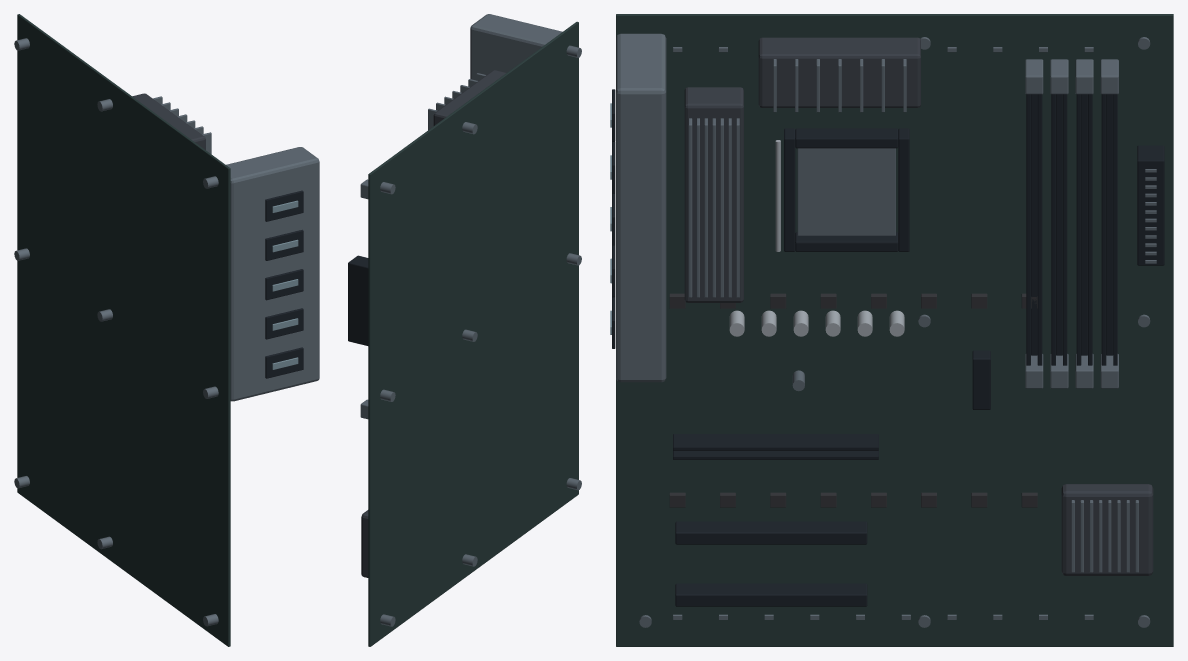
Rendered from motherboard.glb.
3 renders of one model, left to right at view 1: azimuth 30°, elevation 25°; view 2: azimuth 150°, elevation 25°; view 3: azimuth 270°, elevation 25°, orthographic. The views are drawn at different scales.
Parts seen in each view (by area): view 1: Motherboard_PCB_Deep_Slate, Motherboard_Metal_Dark_Steel, Motherboard_Plastic_Black, Motherboard_Accent_Slate, Motherboard_Paint_Graphite; view 2: Motherboard_PCB_Deep_Slate, Motherboard_Metal_Dark_Steel, Motherboard_Plastic_Black, Motherboard_Paint_Graphite; view 3: Motherboard_PCB_Deep_Slate, Motherboard_Plastic_Black, Motherboard_Metal_Dark_Steel, Motherboard_Paint_Graphite, Motherboard_Chip_Ceramic, Motherboard_Metal_Aluminum.
Part boxes in pixels (left/top/right/bottom): Motherboard_PCB_Deep_Slate: left=17, top=14, right=230, bottom=646; Motherboard_Metal_Dark_Steel: left=14, top=38, right=319, bottom=626; Motherboard_Plastic_Black: left=265, top=190, right=303, bottom=378; Motherboard_Accent_Slate: left=272, top=200, right=298, bottom=369; Motherboard_Paint_Graphite: left=132, top=93, right=205, bottom=149; Motherboard_PCB_Deep_Slate: left=368, top=21, right=578, bottom=646; Motherboard_Metal_Dark_Steel: left=360, top=14, right=581, bottom=626; Motherboard_Plastic_Black: left=348, top=255, right=368, bottom=345; Motherboard_Paint_Graphite: left=361, top=70, right=505, bottom=577; Motherboard_PCB_Deep_Slate: left=616, top=14, right=1173, bottom=646; Motherboard_Plastic_Black: left=612, top=89, right=1164, bottom=606; Motherboard_Metal_Dark_Steel: left=616, top=33, right=1156, bottom=627; Motherboard_Paint_Graphite: left=684, top=37, right=1153, bottom=575; Motherboard_Chip_Ceramic: left=669, top=293, right=1037, bottom=507; Motherboard_Metal_Aluminum: left=729, top=140, right=904, bottom=336.
Size of the model in its own units: 0.0695 by 0.305 by 0.2465.
